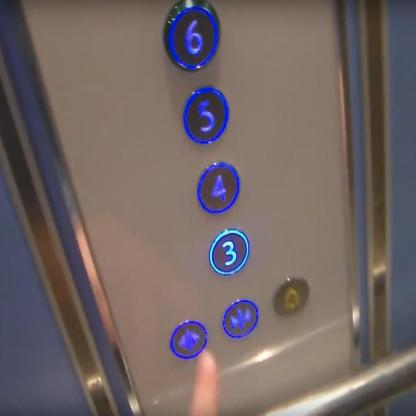3: (208, 226, 250, 276)
4: (195, 158, 240, 214)
5: (180, 82, 230, 145)
6: (160, 0, 221, 74)
alarm: (271, 272, 311, 320)
close: (221, 294, 260, 342)
open: (168, 314, 208, 362)
